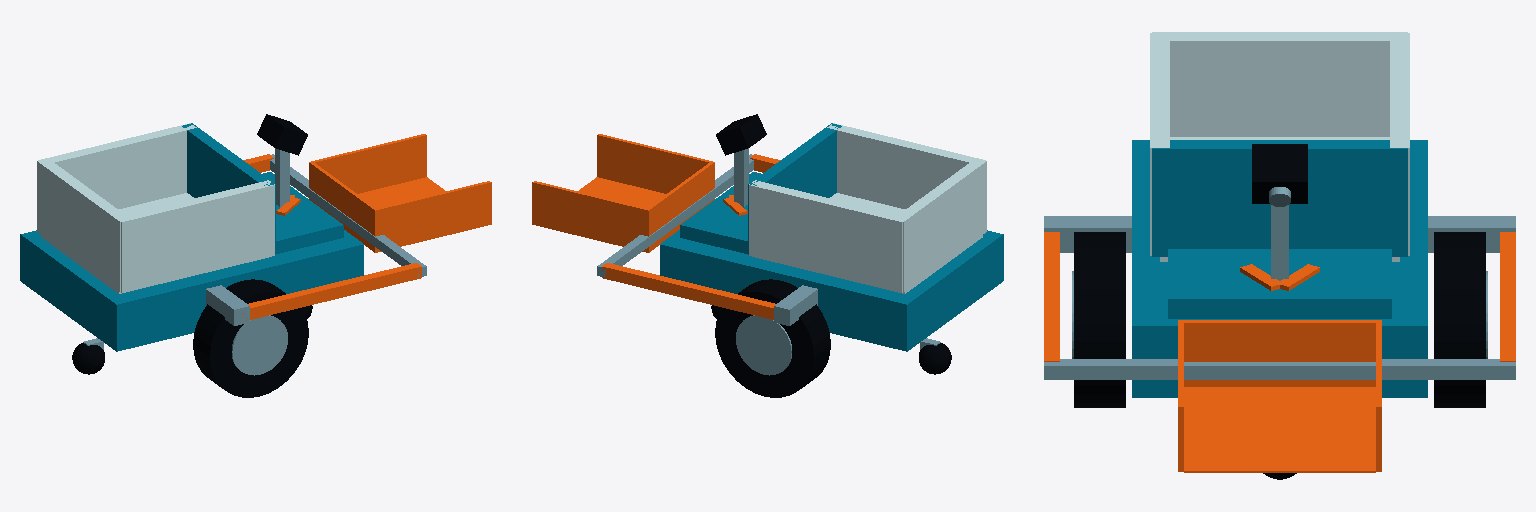
robot.urdf — tennis_ball_collector:
<?xml version='1.0' encoding='utf-8'?>
<robot name="tennis_ball_collector">
  <material name="body">
    <color rgba="0.03 0.53 0.65 1" />
  </material>
  <material name="basket">
    <color rgba="0.80 0.91 0.93 1" />
  </material>
  <material name="orange">
    <color rgba="1.0 0.44 0.10 1" />
  </material>
  <material name="rubber">
    <color rgba="0.045 0.06 0.08 1" />
  </material>
  <material name="hub">
    <color rgba="0.50 0.65 0.70 1" />
  </material>
  <link name="base_link">
    <inertial>
      <origin xyz="-0.025 0 0" />
      <mass value="7.0" />
      <inertia ixx="0.087" ixy="0" ixz="0" iyy="0.184" iyz="0" izz="0.256" />
    </inertial>
    <visual name="chassis">
      <origin xyz="0 0 -0.025" />
      <geometry>
        <box size="0.55 0.37 0.10" />
      </geometry>
      <material name="body" />
    </visual>
    <collision name="chassis_collision">
      <origin xyz="0 0 -0.025" />
      <geometry>
        <box size="0.55 0.37 0.10" />
      </geometry>
    </collision>
    <visual name="basket_floor">
      <origin xyz="-0.08 0 0.04" />
      <geometry>
        <box size="0.34 0.30 0.025" />
      </geometry>
      <material name="basket" />
    </visual>
    <collision name="basket_floor_collision">
      <origin xyz="-0.08 0 0.04" />
      <geometry>
        <box size="0.34 0.30 0.025" />
      </geometry>
    </collision>
    <visual name="basket_back">
      <origin xyz="-0.24 0 0.11" />
      <geometry>
        <box size="0.025 0.32 0.15" />
      </geometry>
      <material name="basket" />
    </visual>
    <collision name="basket_back_collision">
      <origin xyz="-0.24 0 0.11" />
      <geometry>
        <box size="0.025 0.32 0.15" />
      </geometry>
    </collision>
    <visual name="basket_left">
      <origin xyz="-0.08 0.15 0.11" />
      <geometry>
        <box size="0.34 0.025 0.15" />
      </geometry>
      <material name="basket" />
    </visual>
    <collision name="basket_left_collision">
      <origin xyz="-0.08 0.15 0.11" />
      <geometry>
        <box size="0.34 0.025 0.15" />
      </geometry>
    </collision>
    <visual name="basket_right">
      <origin xyz="-0.08 -0.15 0.11" />
      <geometry>
        <box size="0.34 0.025 0.15" />
      </geometry>
      <material name="basket" />
    </visual>
    <collision name="basket_right_collision">
      <origin xyz="-0.08 -0.15 0.11" />
      <geometry>
        <box size="0.34 0.025 0.15" />
      </geometry>
    </collision>
    <visual name="basket_front">
      <origin xyz="0.08 0 0.11" />
      <geometry>
        <box size="0.025 0.32 0.15" />
      </geometry>
      <material name="body" />
    </visual>
    <collision name="basket_front_collision">
      <origin xyz="0.08 0 0.11" />
      <geometry>
        <box size="0.025 0.32 0.15" />
      </geometry>
    </collision>
    <visual name="arm_pivot_shaft">
      <origin xyz="-0.06 0 -0.005" />
      <geometry>
        <box size="0.035 0.59 0.035" />
      </geometry>
      <material name="hub" />
    </visual>
    <visual name="front_deck">
      <origin xyz="0.18 0 0.035" />
      <geometry>
        <box size="0.15 0.28 0.035" />
      </geometry>
      <material name="body" />
    </visual>
    <visual name="camera_stand">
      <origin xyz="0.20 0 0.11" />
      <geometry><box size="0.022 0.022 0.14" /></geometry>
      <material name="hub" />
    </visual>
    <visual name="onboard_camera">
      <origin xyz="0.20 0 0.20" rpy="0 0.48869219 0" />
      <geometry><box size="0.06 0.07 0.045" /></geometry>
      <material name="rubber" />
    </visual>
    <visual name="camera_lens">
      <origin xyz="0.231 0 0.1835" rpy="0 2.05948852 0" />
      <geometry><cylinder radius="0.014" length="0.012" /></geometry>
      <material name="hub" />
    </visual>
    <visual name="direction_arrow_left">
      <origin xyz="0.20 0.023 0.057" rpy="0 0 -0.60" />
      <geometry>
        <box size="0.07 0.018 0.006" />
      </geometry>
      <material name="orange" />
    </visual>
    <visual name="direction_arrow_right">
      <origin xyz="0.20 -0.023 0.057" rpy="0 0 0.60" />
      <geometry>
        <box size="0.07 0.018 0.006" />
      </geometry>
      <material name="orange" />
    </visual>
  </link>
  <link name="left_wheel">
    <inertial>
      <mass value="0.35" />
      <inertia ixx="0.00118" ixy="0" ixz="0" iyy="0.00212" iyz="0" izz="0.00118" />
    </inertial>
    <visual>
      <origin rpy="1.57079632679 0 0" />
      <geometry>
        <cylinder radius="0.11" length="0.065" />
      </geometry>
      <material name="rubber" />
    </visual>
    <visual>
      <origin xyz="0 0.034 0" rpy="1.57079632679 0 0" />
      <geometry>
        <cylinder radius="0.062" length="0.004" />
      </geometry>
      <material name="hub" />
    </visual>
    <collision>
      <origin rpy="1.57079632679 0 0" />
      <geometry>
        <cylinder radius="0.11" length="0.065" />
      </geometry>
    </collision>
  </link>
  <joint name="left_wheel_joint" type="continuous">
    <parent link="base_link" />
    <child link="left_wheel" />
    <origin xyz="0 0.225 -0.095" />
    <axis xyz="0 1 0" />
    <limit effort="12" velocity="12" />
    <dynamics damping="0.05" friction="0.01" />
  </joint>
  <link name="right_wheel">
    <inertial>
      <mass value="0.35" />
      <inertia ixx="0.00118" ixy="0" ixz="0" iyy="0.00212" iyz="0" izz="0.00118" />
    </inertial>
    <visual>
      <origin rpy="1.57079632679 0 0" />
      <geometry>
        <cylinder radius="0.11" length="0.065" />
      </geometry>
      <material name="rubber" />
    </visual>
    <visual>
      <origin xyz="0 -0.034 0" rpy="1.57079632679 0 0" />
      <geometry>
        <cylinder radius="0.062" length="0.004" />
      </geometry>
      <material name="hub" />
    </visual>
    <collision>
      <origin rpy="1.57079632679 0 0" />
      <geometry>
        <cylinder radius="0.11" length="0.065" />
      </geometry>
    </collision>
  </link>
  <joint name="right_wheel_joint" type="continuous">
    <parent link="base_link" />
    <child link="right_wheel" />
    <origin xyz="0 -0.225 -0.095" />
    <axis xyz="0 1 0" />
    <limit effort="12" velocity="12" />
    <dynamics damping="0.05" friction="0.01" />
  </joint>
  <link name="shovel_arm">
    <inertial>
      <origin xyz="0.20 0 0" />
      <mass value="0.55" />
      <inertia ixx="0.0447" ixy="0" ixz="0" iyy="0.00735" iyz="0" izz="0.052" />
    </inertial>
    <visual name="left_arm">
      <origin xyz="0.20 0.285 0" />
      <geometry>
        <box size="0.40 0.02 0.025" />
      </geometry>
      <material name="orange" />
    </visual>
    <collision name="left_arm_collision">
      <origin xyz="0.20 0.285 0" />
      <geometry>
        <box size="0.40 0.02 0.025" />
      </geometry>
    </collision>
    <visual name="right_arm">
      <origin xyz="0.20 -0.285 0" />
      <geometry>
        <box size="0.40 0.02 0.025" />
      </geometry>
      <material name="orange" />
    </visual>
    <collision name="right_arm_collision">
      <origin xyz="0.20 -0.285 0" />
      <geometry>
        <box size="0.40 0.02 0.025" />
      </geometry>
    </collision>
    <visual name="bucket_pivot_shaft">
      <origin xyz="0.40 0 0" />
      <geometry>
        <box size="0.02 0.59 0.02" />
      </geometry>
      <material name="hub" />
    </visual>
  </link>
  <joint name="shovel_lift_joint" type="revolute">
    <parent link="base_link" />
    <child link="shovel_arm" />
    <origin xyz="-0.06 0 -0.005" />
    <axis xyz="0 -1 0" />
    <limit lower="-0.48" upper="2.25" effort="14" velocity="1.5" />
    <dynamics damping="0.08" friction="0.01" />
  </joint>
  <link name="shovel_bucket">
    <inertial>
      <origin xyz="0.12 0 0.005" />
      <mass value="0.30" />
      <inertia ixx="0.0020" ixy="0" ixz="0" iyy="0.0020" iyz="0" izz="0.0032" />
    </inertial>
    <visual name="shovel_floor">
      <origin xyz="0.125 0 -0.025" />
      <geometry>
        <box size="0.25 0.24 0.002" />
      </geometry>
      <material name="orange" />
    </visual>
    <collision name="shovel_floor_collision">
      <origin xyz="0.125 0 -0.025" />
      <geometry>
        <box size="0.25 0.24 0.002" />
      </geometry>
    </collision>
    <visual name="shovel_back">
      <origin xyz="-0.004 0 0.020" />
      <geometry>
        <box size="0.008 0.256 0.09" />
      </geometry>
      <material name="orange" />
    </visual>
    <collision name="shovel_back_collision">
      <origin xyz="-0.004 0 0.020" />
      <geometry>
        <box size="0.008 0.256 0.09" />
      </geometry>
    </collision>
    <visual name="shovel_left">
      <origin xyz="0.125 0.124 0.020" />
      <geometry>
        <box size="0.25 0.008 0.09" />
      </geometry>
      <material name="orange" />
    </visual>
    <collision name="shovel_left_collision">
      <origin xyz="0.125 0.124 0.020" />
      <geometry>
        <box size="0.25 0.008 0.09" />
      </geometry>
    </collision>
    <visual name="shovel_right">
      <origin xyz="0.125 -0.124 0.020" />
      <geometry>
        <box size="0.25 0.008 0.09" />
      </geometry>
      <material name="orange" />
    </visual>
    <collision name="shovel_right_collision">
      <origin xyz="0.125 -0.124 0.020" />
      <geometry>
        <box size="0.25 0.008 0.09" />
      </geometry>
    </collision>
  </link>
  <joint name="shovel_tilt_joint" type="revolute">
    <parent link="shovel_arm" />
    <child link="shovel_bucket" />
    <origin xyz="0.40 0 0" />
    <axis xyz="0 -1 0" />
    <limit lower="-3.10" upper="0.85" effort="8" velocity="2.0" />
    <dynamics damping="0.04" friction="0.005" />
  </joint>
  <link name="front_caster_fork">
    <inertial>
      <origin xyz="-0.01 0 -0.015" />
      <mass value="0.02" />
      <inertia ixx="1e-05" ixy="0" ixz="0" iyy="1e-05" iyz="0" izz="1e-05" />
    </inertial>
    <visual>
      <origin xyz="-0.01 0 -0.015" />
      <geometry>
        <box size="0.035 0.018 0.035" />
      </geometry>
      <material name="hub" />
    </visual>
  </link>
  <joint name="front_caster_yaw" type="continuous">
    <parent link="base_link" />
    <child link="front_caster_fork" />
    <origin xyz="0.25 0 -0.143" />
    <axis xyz="0 0 1" />
    <limit effort="0.2" velocity="100" />
    <dynamics damping="0.0001" friction="0" />
  </joint>
  <link name="front_caster_wheel">
    <inertial>
      <origin xyz="0 0 0" />
      <mass value="0.04" />
      <inertia ixx="1.64e-05" ixy="0" ixz="0" iyy="1.64e-05" iyz="0" izz="1.64e-05" />
    </inertial>
    <visual>
      <geometry>
        <sphere radius="0.032" />
      </geometry>
      <material name="rubber" />
    </visual>
    <collision>
      <geometry>
        <sphere radius="0.032" />
      </geometry>
    </collision>
  </link>
  <joint name="front_caster_roll" type="continuous">
    <parent link="front_caster_fork" />
    <child link="front_caster_wheel" />
    <origin xyz="-0.02 0 -0.030" />
    <axis xyz="0 1 0" />
    <limit effort="0.2" velocity="100" />
    <dynamics damping="0.0001" friction="0" />
  </joint>
  <link name="rear_caster_fork">
    <inertial>
      <origin xyz="-0.01 0 -0.015" />
      <mass value="0.02" />
      <inertia ixx="1e-05" ixy="0" ixz="0" iyy="1e-05" iyz="0" izz="1e-05" />
    </inertial>
    <visual>
      <origin xyz="-0.01 0 -0.015" />
      <geometry>
        <box size="0.035 0.018 0.035" />
      </geometry>
      <material name="hub" />
    </visual>
  </link>
  <joint name="rear_caster_yaw" type="continuous">
    <parent link="base_link" />
    <child link="rear_caster_fork" />
    <origin xyz="-0.21 0 -0.143" />
    <axis xyz="0 0 1" />
    <limit effort="0.2" velocity="100" />
    <dynamics damping="0.0001" friction="0" />
  </joint>
  <link name="rear_caster_wheel">
    <inertial>
      <origin xyz="0 0 0" />
      <mass value="0.04" />
      <inertia ixx="1.64e-05" ixy="0" ixz="0" iyy="1.64e-05" iyz="0" izz="1.64e-05" />
    </inertial>
    <visual>
      <geometry>
        <sphere radius="0.032" />
      </geometry>
      <material name="rubber" />
    </visual>
    <collision>
      <geometry>
        <sphere radius="0.032" />
      </geometry>
    </collision>
  </link>
  <joint name="rear_caster_roll" type="continuous">
    <parent link="rear_caster_fork" />
    <child link="rear_caster_wheel" />
    <origin xyz="-0.02 0 -0.030" />
    <axis xyz="0 1 0" />
    <limit effort="0.2" velocity="100" />
    <dynamics damping="0.0001" friction="0" />
  </joint>
</robot>

--- What the picture shows (computed from the rendered views, not written in the file) ---
Views: 3 orthographic renders of the robot side by side, from view 1: azimuth 30°, elevation 25°; view 2: azimuth 150°, elevation 25°; view 3: azimuth 270°, elevation 25°.
Robot: tennis_ball_collector — 9 links, 8 joints (2 revolute, 6 continuous); root link base_link; default pose: all joints at 0.
Links seen in each view (by area): view 1: base_link, shovel_bucket, right_wheel, shovel_arm, rear_caster_wheel; view 2: base_link, shovel_bucket, left_wheel, shovel_arm, rear_caster_wheel; view 3: base_link, shovel_bucket, shovel_arm, left_wheel, right_wheel.
Link boxes in pixels (x1=…): base_link: x1=20, y1=114, x2=363, y2=351; shovel_bucket: x1=309, y1=134, x2=491, y2=252; right_wheel: x1=193, y1=279, x2=308, y2=397; shovel_arm: x1=242, y1=154, x2=426, y2=320; rear_caster_wheel: x1=72, y1=343, x2=104, y2=374; base_link: x1=660, y1=114, x2=1003, y2=351; shovel_bucket: x1=532, y1=134, x2=714, y2=252; left_wheel: x1=715, y1=279, x2=830, y2=397; shovel_arm: x1=597, y1=154, x2=780, y2=319; rear_caster_wheel: x1=919, y1=343, x2=951, y2=374; base_link: x1=1044, y1=32, x2=1515, y2=397; shovel_bucket: x1=1178, y1=320, x2=1381, y2=472; shovel_arm: x1=1044, y1=232, x2=1515, y2=379; left_wheel: x1=1434, y1=232, x2=1487, y2=407; right_wheel: x1=1072, y1=232, x2=1125, y2=407.
Bounding box of the posed robot: 0.865 × 0.59 × 0.439 m (x, y, z).
Geometry: primitives only (box / cylinder / sphere), no mesh files.
